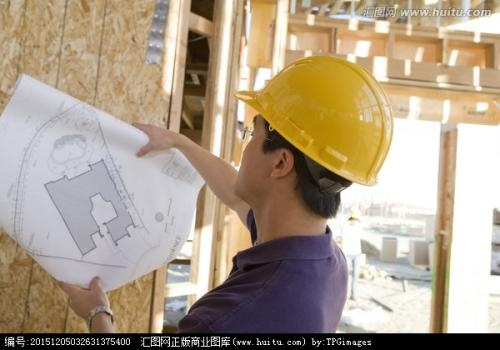yellow: (226, 50, 391, 226)
